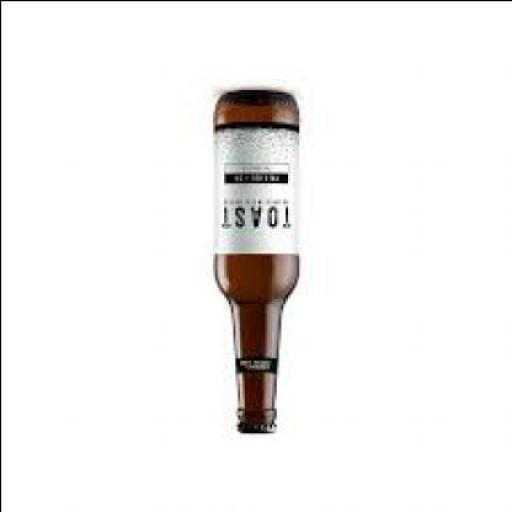glass: (211, 91, 299, 435)
metal: (239, 424, 278, 434)
